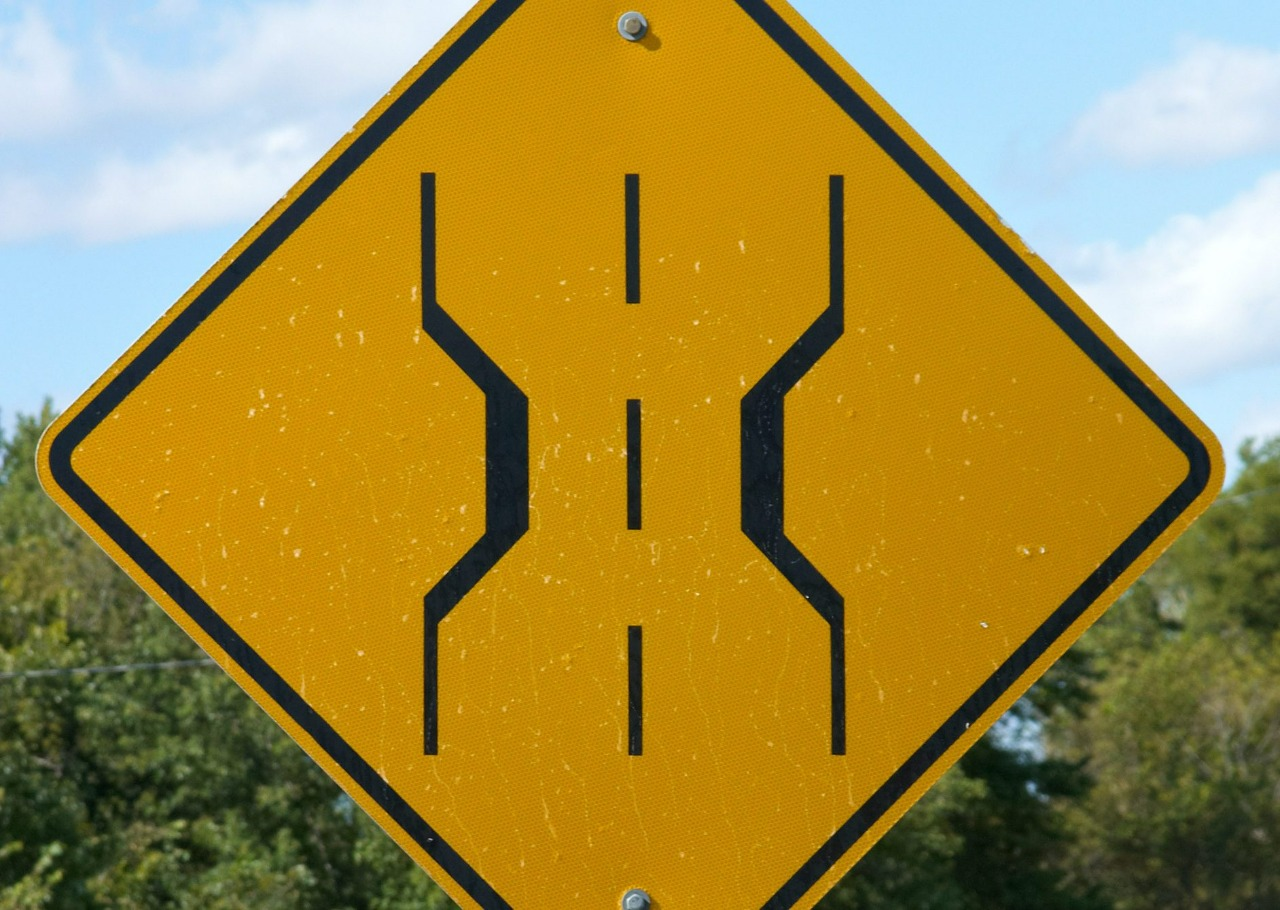narrow-road: (379, 159, 874, 782)
